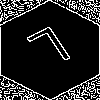L: (25, 25, 80, 79)
